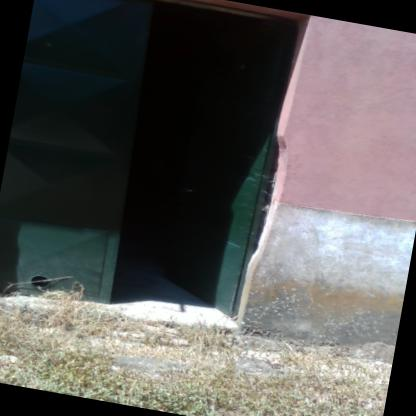open: (0, 0, 314, 350)
